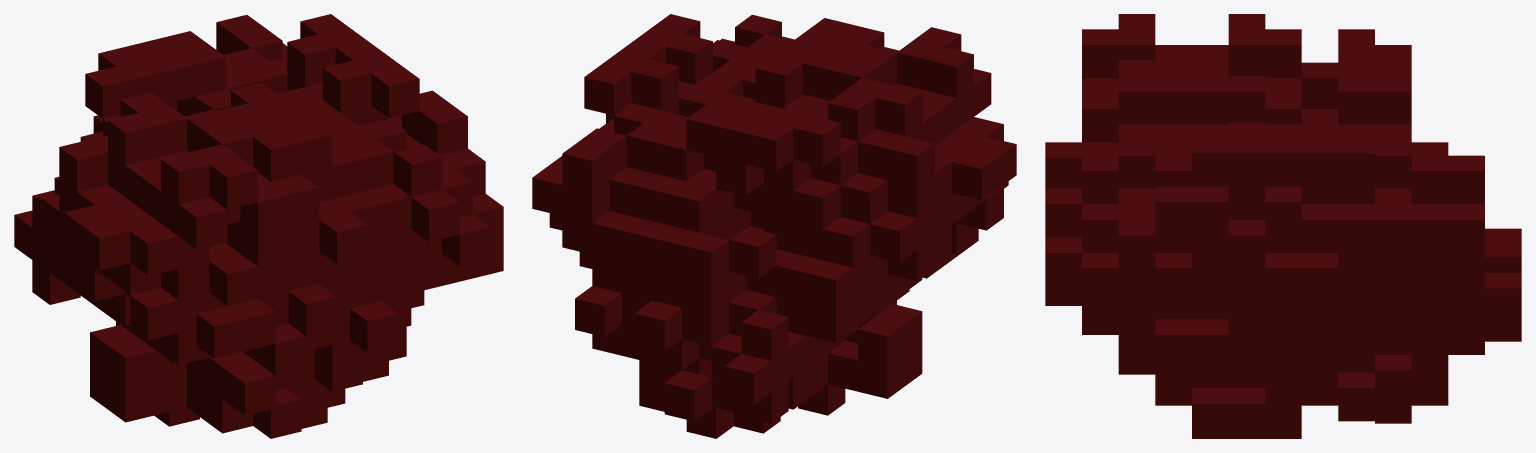
File: bad-4.obj
3 views of the same model, side by side, from view 1: azimuth 30°, elevation 25°; view 2: azimuth 150°, elevation 25°; view 3: azimuth 270°, elevation 25° (orthographic). The views are drawn at different scales.
Size of the model in its own units: 1.2 by 1 by 1.3.
1 material, 1 textured.
